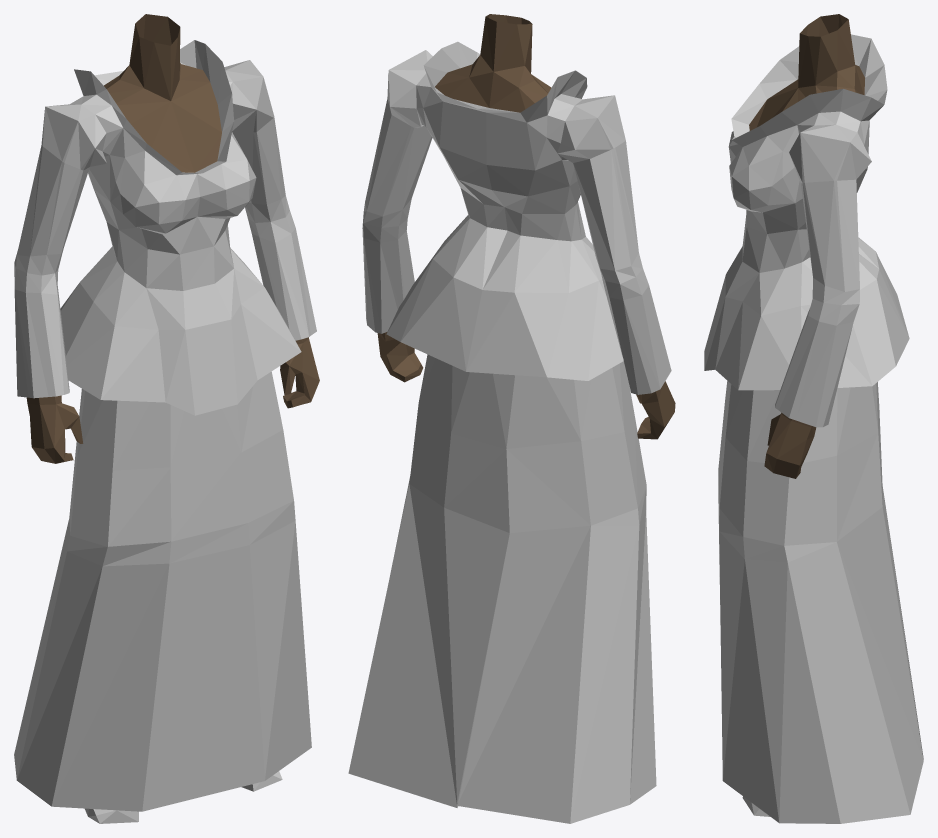
Rendered from ARMOR_VLKBABE_L.OBJ.
3 renders of one model, left to right at view 1: azimuth 30°, elevation 25°; view 2: azimuth 150°, elevation 25°; view 3: azimuth 270°, elevation 25°, orthographic. The views are drawn at different scales.
Visible parts, largest first — view 1: ARMOR_VLKBABE_L; view 2: ARMOR_VLKBABE_L; view 3: ARMOR_VLKBABE_L.
Part boxes in pixels (x1,y1,x2,y2): ARMOR_VLKBABE_L: (14,14,319,823); ARMOR_VLKBABE_L: (348,14,675,823); ARMOR_VLKBABE_L: (704,14,923,823).
Size of the model in its own units: 0.6681 by 1.68 by 0.4407.
